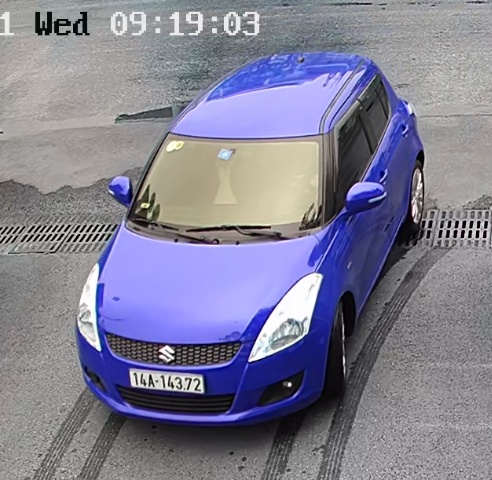vehicle plate: (127, 363, 207, 399)
